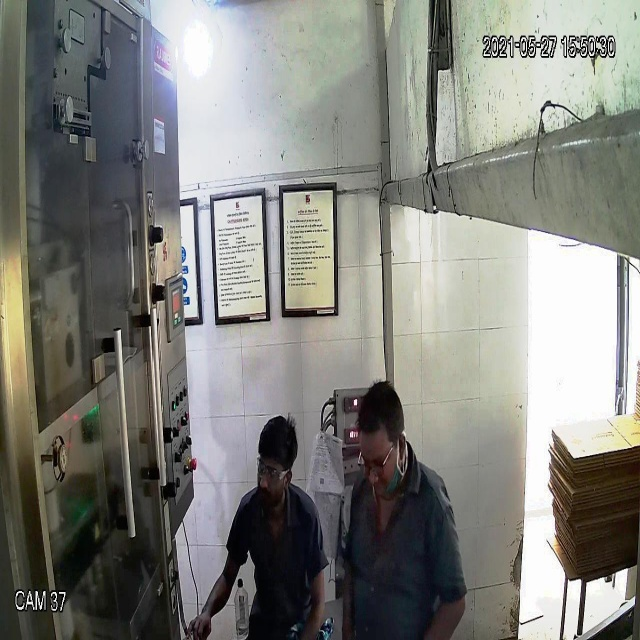Gafas: (352, 453, 399, 483), (255, 453, 294, 484)
